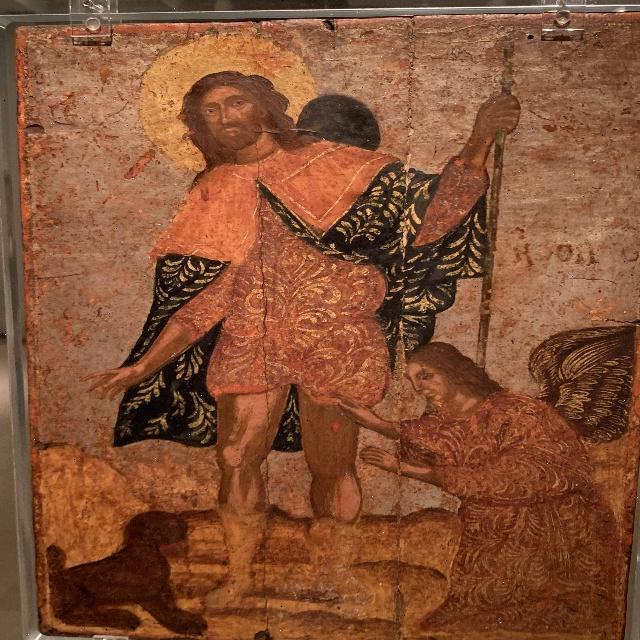angel: (390, 333, 627, 625)
aura: (140, 33, 315, 161)
scepter: (465, 36, 519, 363)
st_rokkos: (119, 33, 447, 592)
wing: (547, 317, 638, 446)
